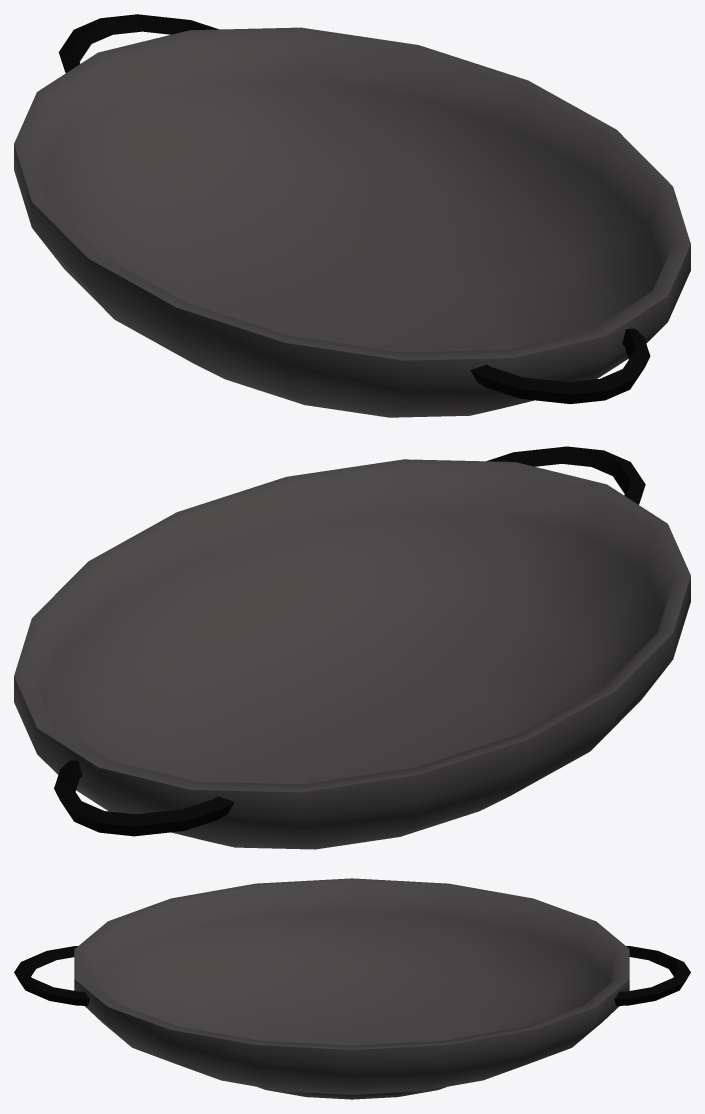
Rendered from Kitchen_SaladBowl.FBX.
3 views of the same model, one above another, from view 1: azimuth 30°, elevation 25°; view 2: azimuth 150°, elevation 25°; view 3: azimuth 270°, elevation 25° (orthographic). The views are drawn at different scales.
Visible parts, largest first — view 1: Kitchen_SaladBowl; view 2: Kitchen_SaladBowl; view 3: Kitchen_SaladBowl.
Part boxes in pixels (x1,y1,x2,y2): Kitchen_SaladBowl: [14, 14, 690, 417]; Kitchen_SaladBowl: [14, 446, 690, 849]; Kitchen_SaladBowl: [14, 878, 690, 1099].
Size of the model in its own units: 0.2999 by 0.0769 by 0.5001.
